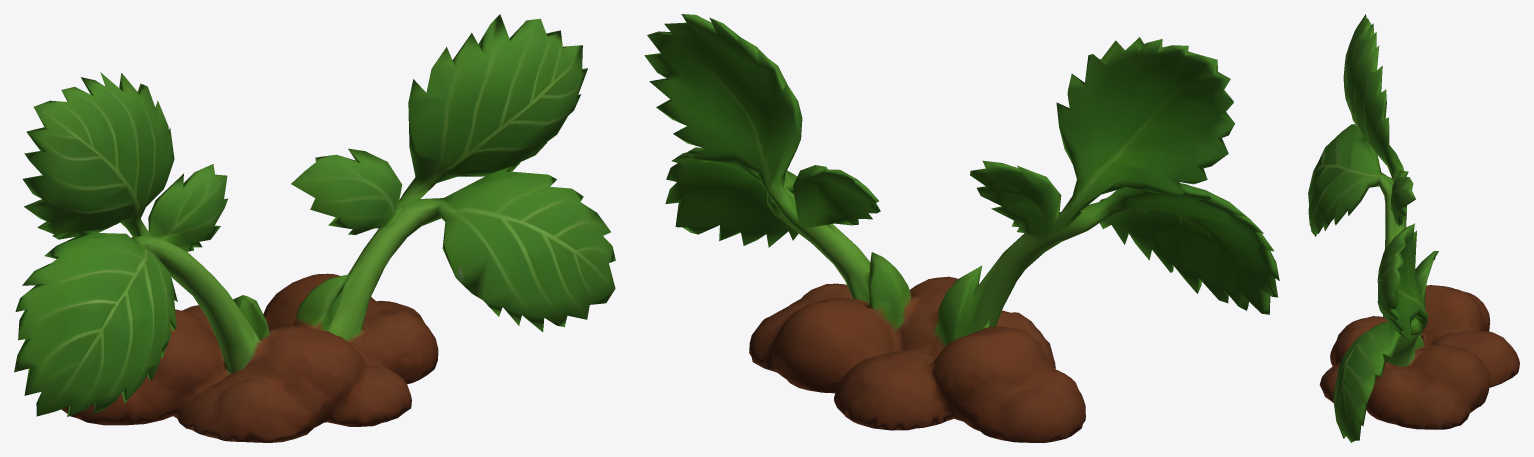
The model's file is strawberry-base.glb.
3 renders of one model, left to right at view 1: azimuth 30°, elevation 25°; view 2: azimuth 150°, elevation 25°; view 3: azimuth 270°, elevation 25°, orthographic. The views are drawn at different scales.
Parts seen in each view (by area): view 1: tripo_node_c02900f7-315d-4c3e-9871-89667f5c3999; view 2: tripo_node_c02900f7-315d-4c3e-9871-89667f5c3999; view 3: tripo_node_c02900f7-315d-4c3e-9871-89667f5c3999.
Part boxes in pixels (bbox=[...]): tripo_node_c02900f7-315d-4c3e-9871-89667f5c3999: bbox=[14, 14, 615, 442]; tripo_node_c02900f7-315d-4c3e-9871-89667f5c3999: bbox=[644, 14, 1279, 442]; tripo_node_c02900f7-315d-4c3e-9871-89667f5c3999: bbox=[1308, 14, 1519, 442].
Bounding box in the file's own units: 0.9828 × 0.5809 × 0.4054.
1 material, 1 textured.
